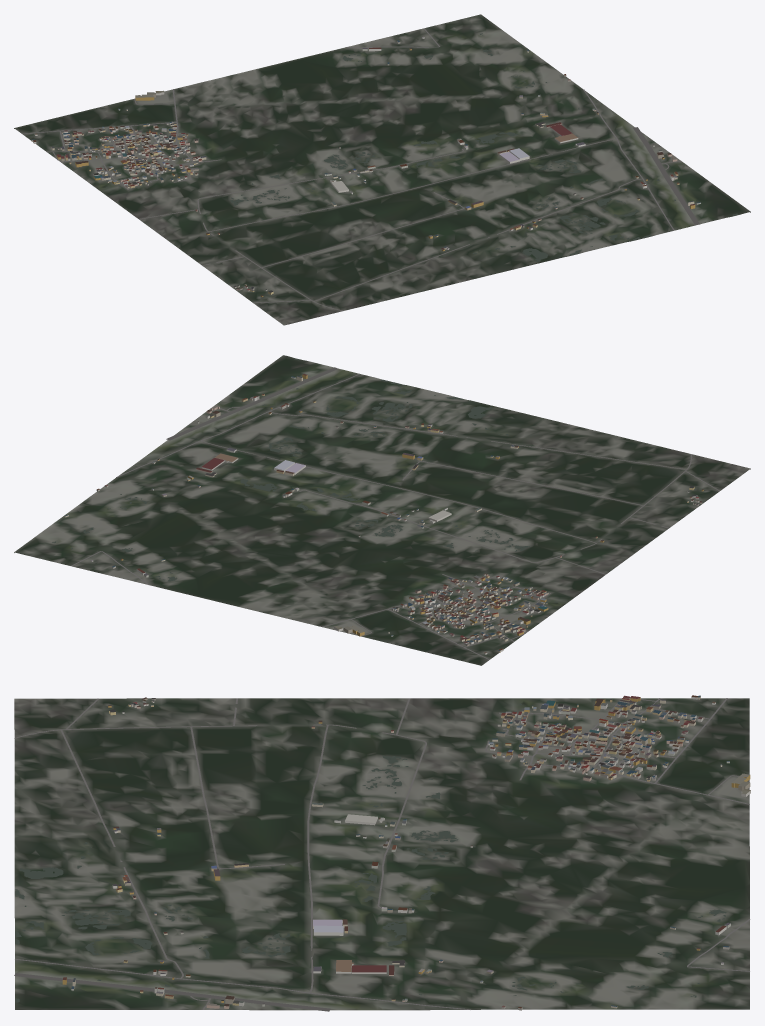
3 renders of one model, top to bottom at view 1: azimuth 30°, elevation 25°; view 2: azimuth 150°, elevation 25°; view 3: azimuth 270°, elevation 25°, orthographic. The views are drawn at different scales.
Parts seen in each view (by area): view 1: ground, buildings, roads, water; view 2: ground, buildings, roads, water; view 3: ground, buildings, roads, water.
Boxes of the visible parts, x1,y1,x2,y2 form: ground: (14, 14, 750, 325); buildings: (31, 36, 700, 297); roads: (22, 28, 699, 310); water: (106, 33, 738, 261); ground: (14, 355, 750, 665); buildings: (64, 374, 703, 654); roads: (71, 367, 719, 659); water: (52, 358, 557, 602); ground: (14, 698, 749, 1010); buildings: (62, 695, 750, 1010); roads: (14, 698, 750, 1011); water: (15, 703, 726, 1002).
Size of the model in its own units: 1413 by 16.74 by 1405.
